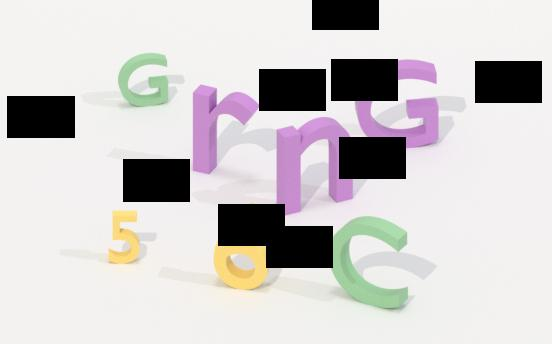5: (103, 207, 143, 267)
6: (212, 199, 272, 292)
G-hoa: (352, 49, 447, 157), (113, 49, 175, 113)
R: (189, 81, 263, 177)
c: (323, 212, 416, 311)
n: (273, 114, 357, 219)
